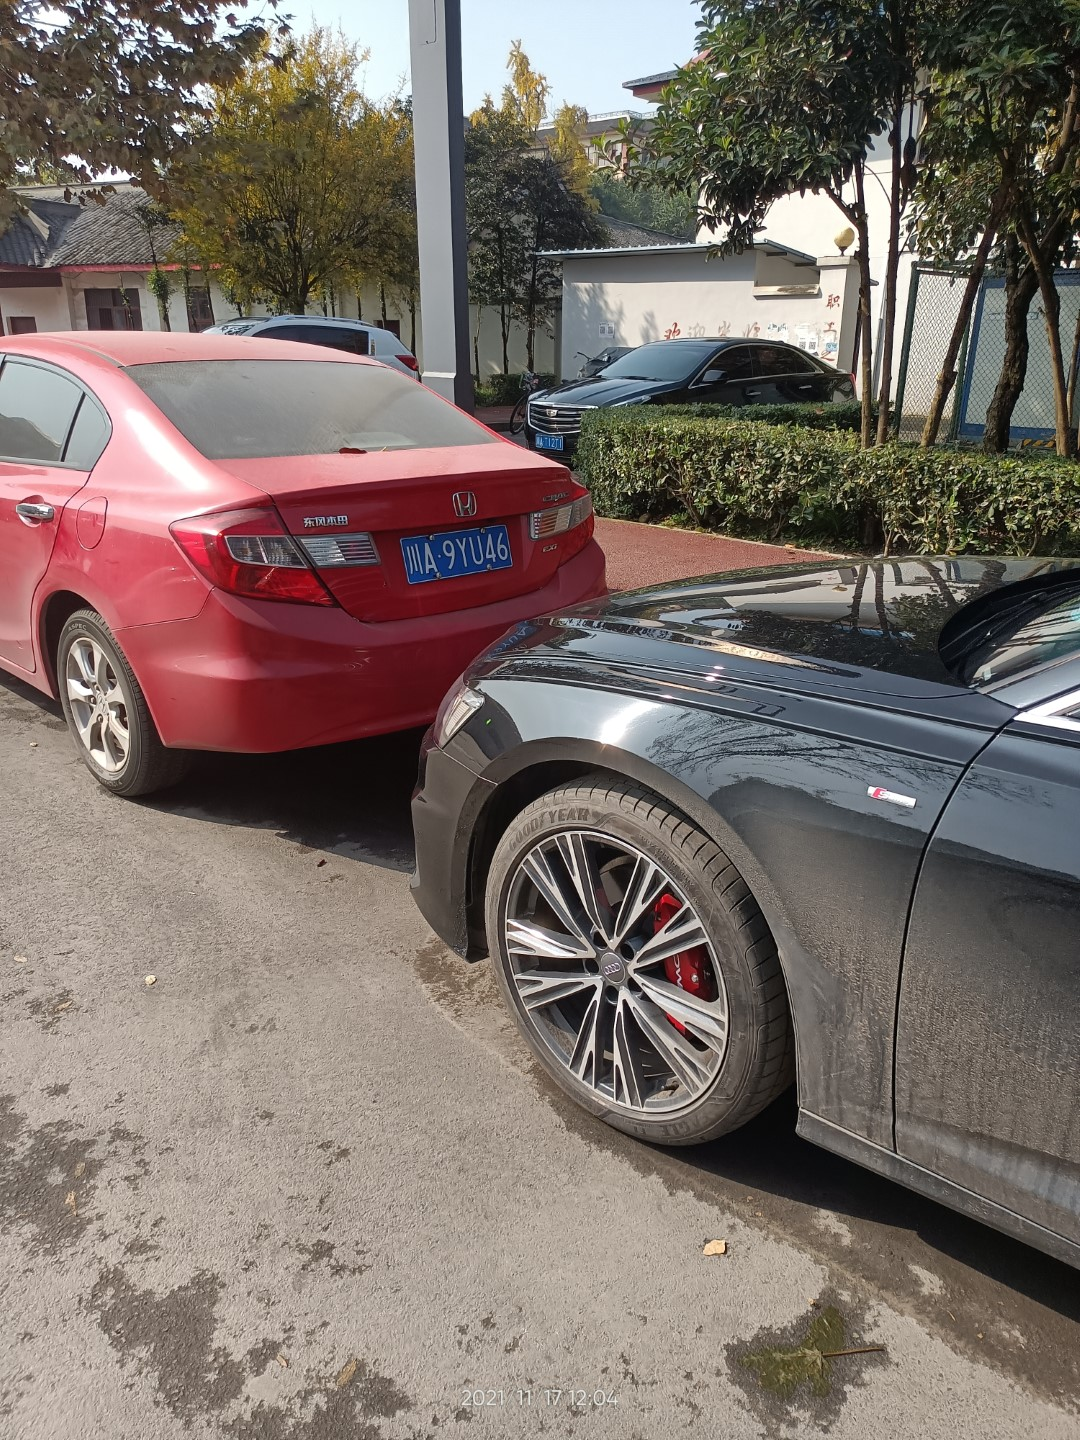plate: (399, 523, 514, 586)
